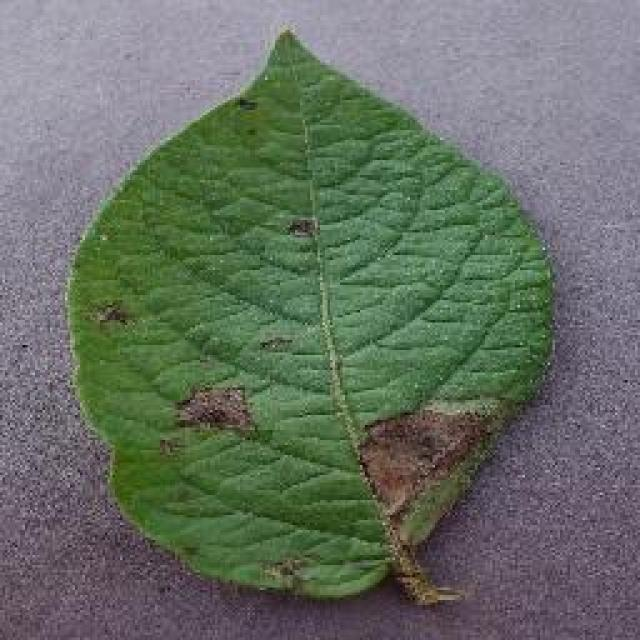late_blight: (60, 25, 560, 607)
